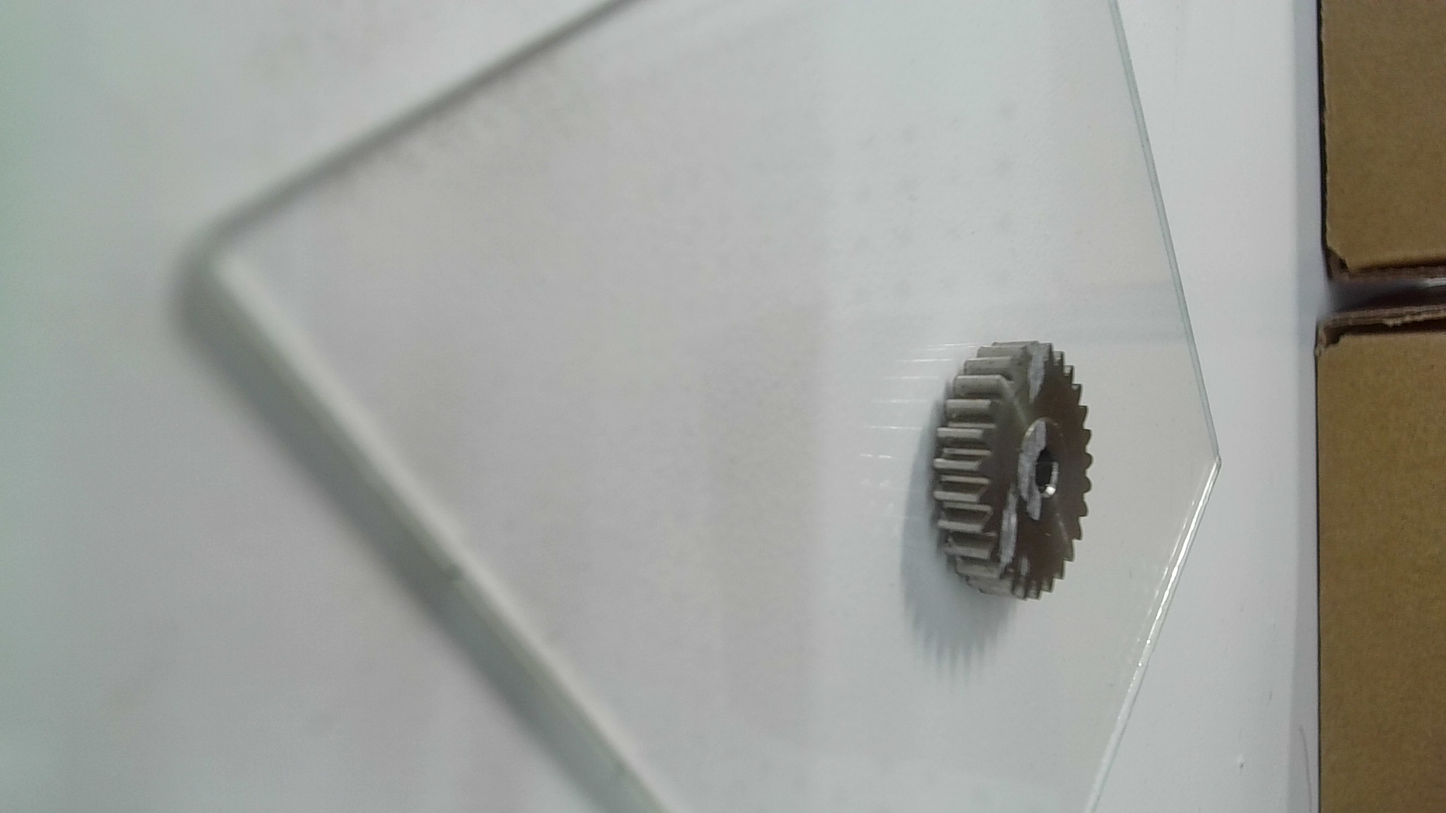gear: (927, 331, 1092, 604)
